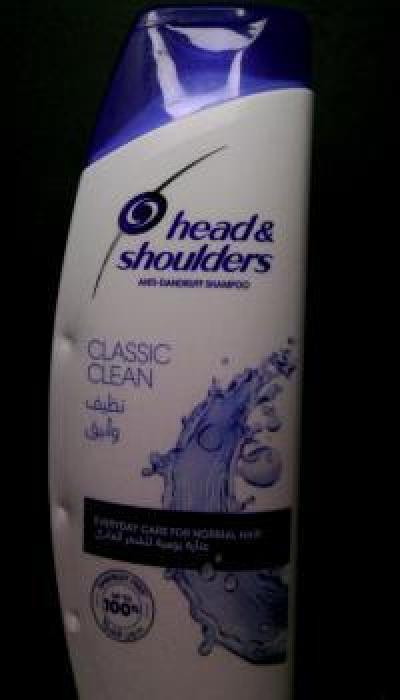dent_unacc: (55, 311, 85, 369), (50, 490, 80, 536), (61, 587, 89, 635)
